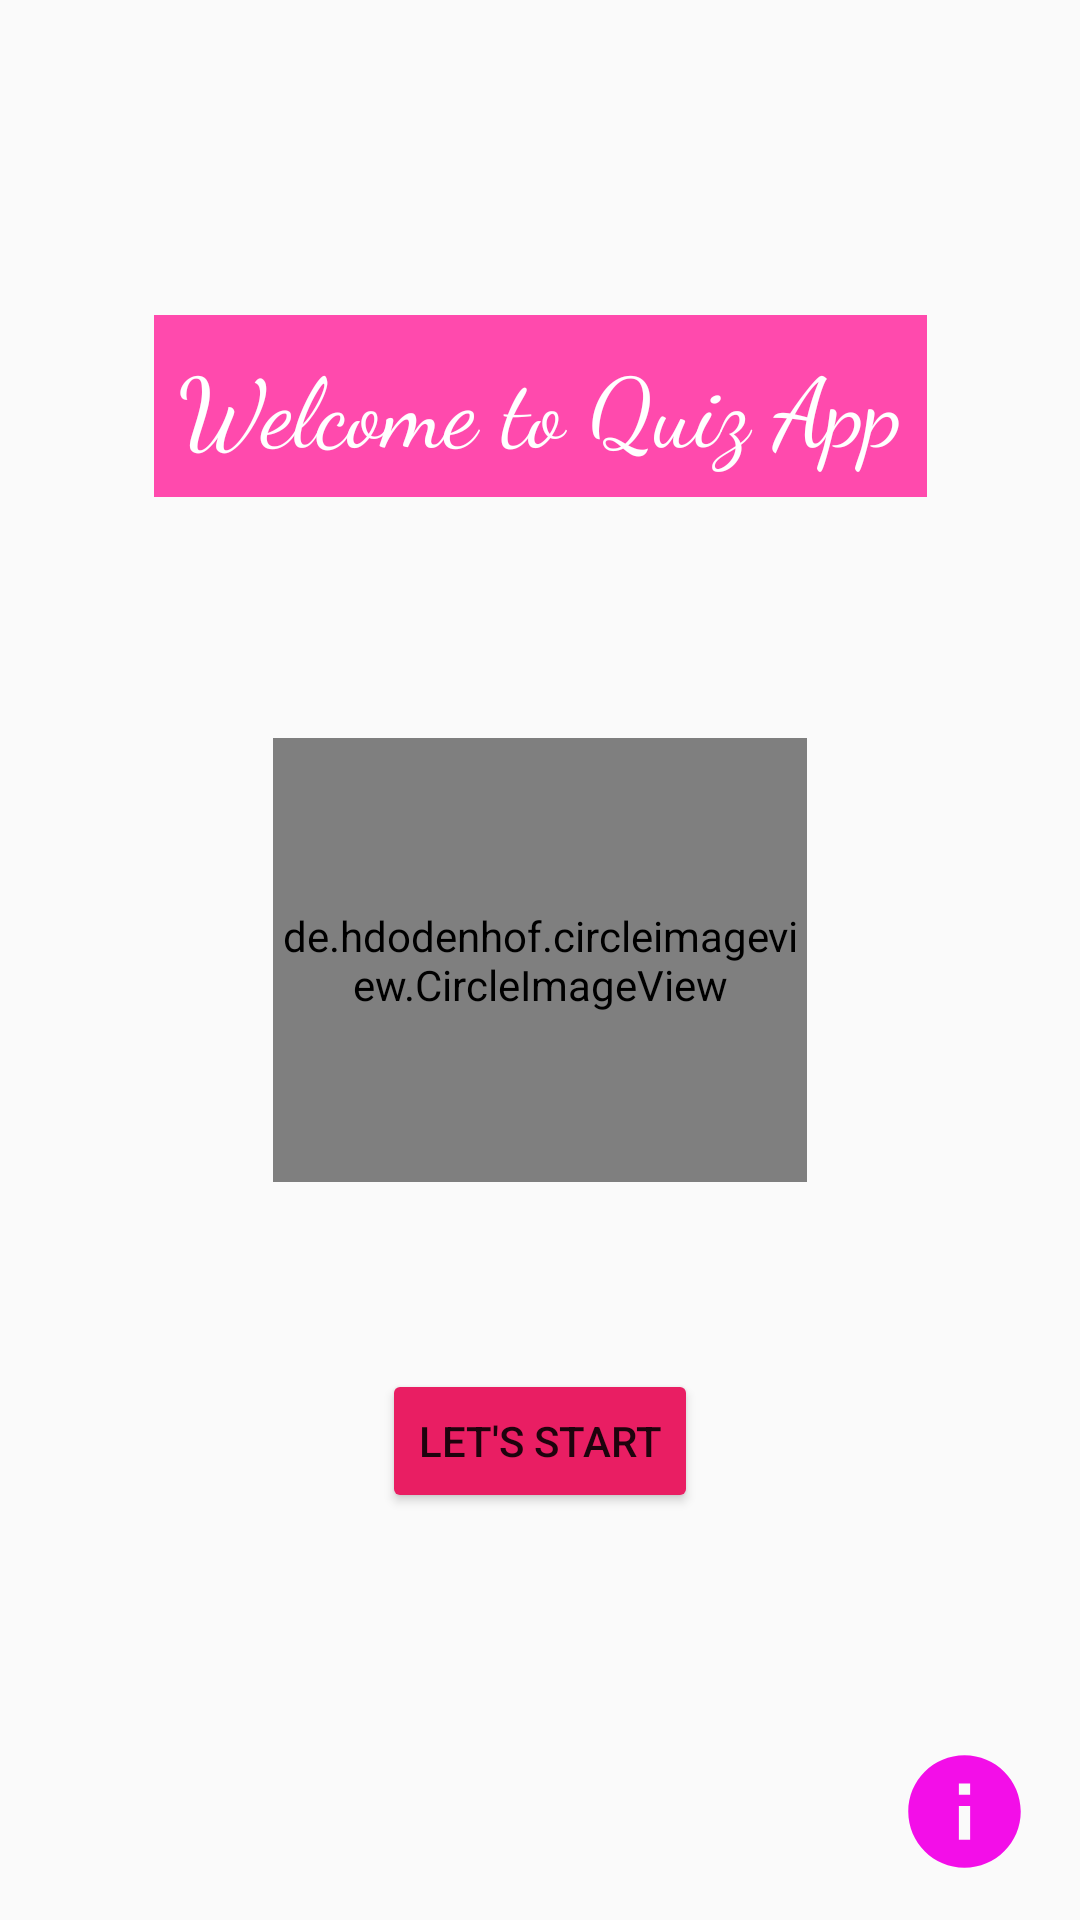

Icon click points for this 1080 x 1920 phone screenshot, format (x=x, y=y):
info: (x=964, y=1811)
